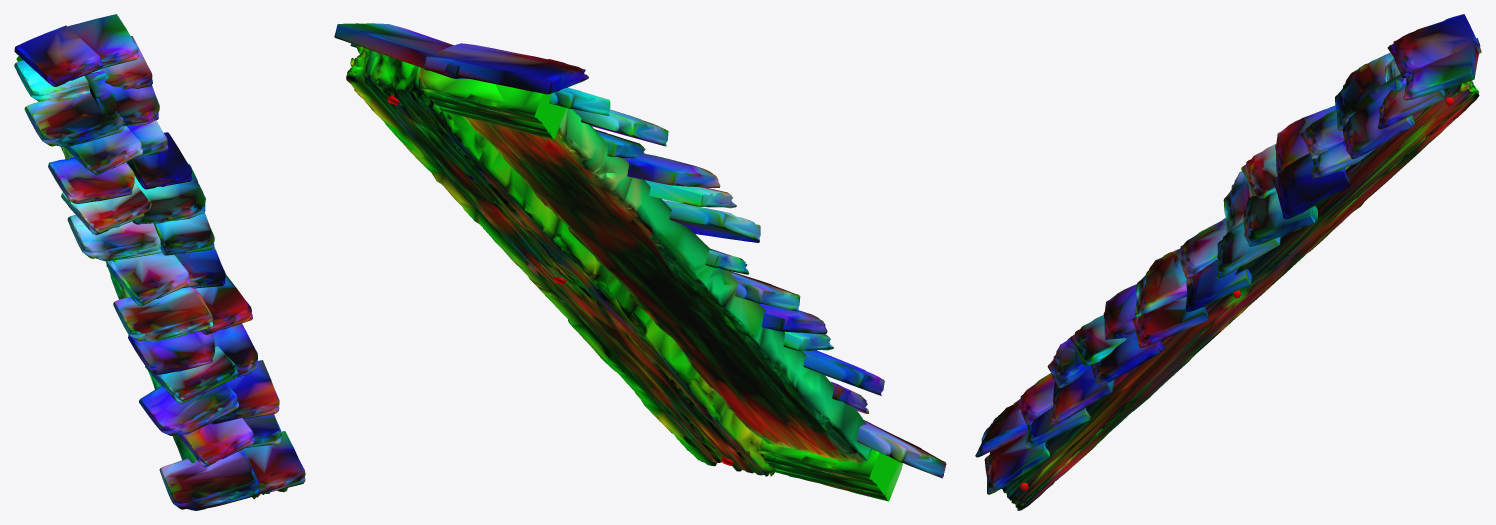
Rendered from SM_Stone_Roof_End_R_V2.fbx.
3 views of the same model, side by side, from view 1: azimuth 30°, elevation 25°; view 2: azimuth 150°, elevation 25°; view 3: azimuth 270°, elevation 25° (orthographic). The views are drawn at different scales.
Parts seen in each view (by area): view 1: SM_Stone_Roof_End_R_V2_LOD0; view 2: SM_Stone_Roof_End_R_V2_LOD0; view 3: SM_Stone_Roof_End_R_V2_LOD0.
Boxes of the visible parts, x1=… form: SM_Stone_Roof_End_R_V2_LOD0: x1=14, y1=14, x2=305, y2=510; SM_Stone_Roof_End_R_V2_LOD0: x1=334, y1=23, x2=946, y2=501; SM_Stone_Roof_End_R_V2_LOD0: x1=975, y1=14, x2=1481, y2=510.
Bounding box in the file's own units: 132 × 337 × 325.
